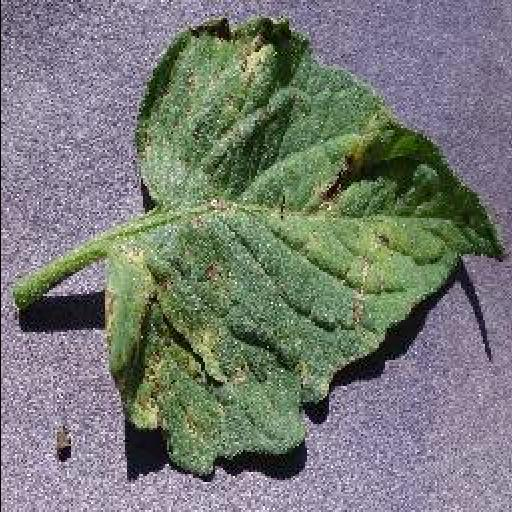disease_tomato: (98, 16, 504, 480)
